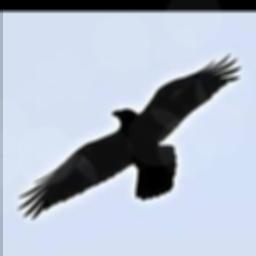Crow: (17, 53, 241, 221)
